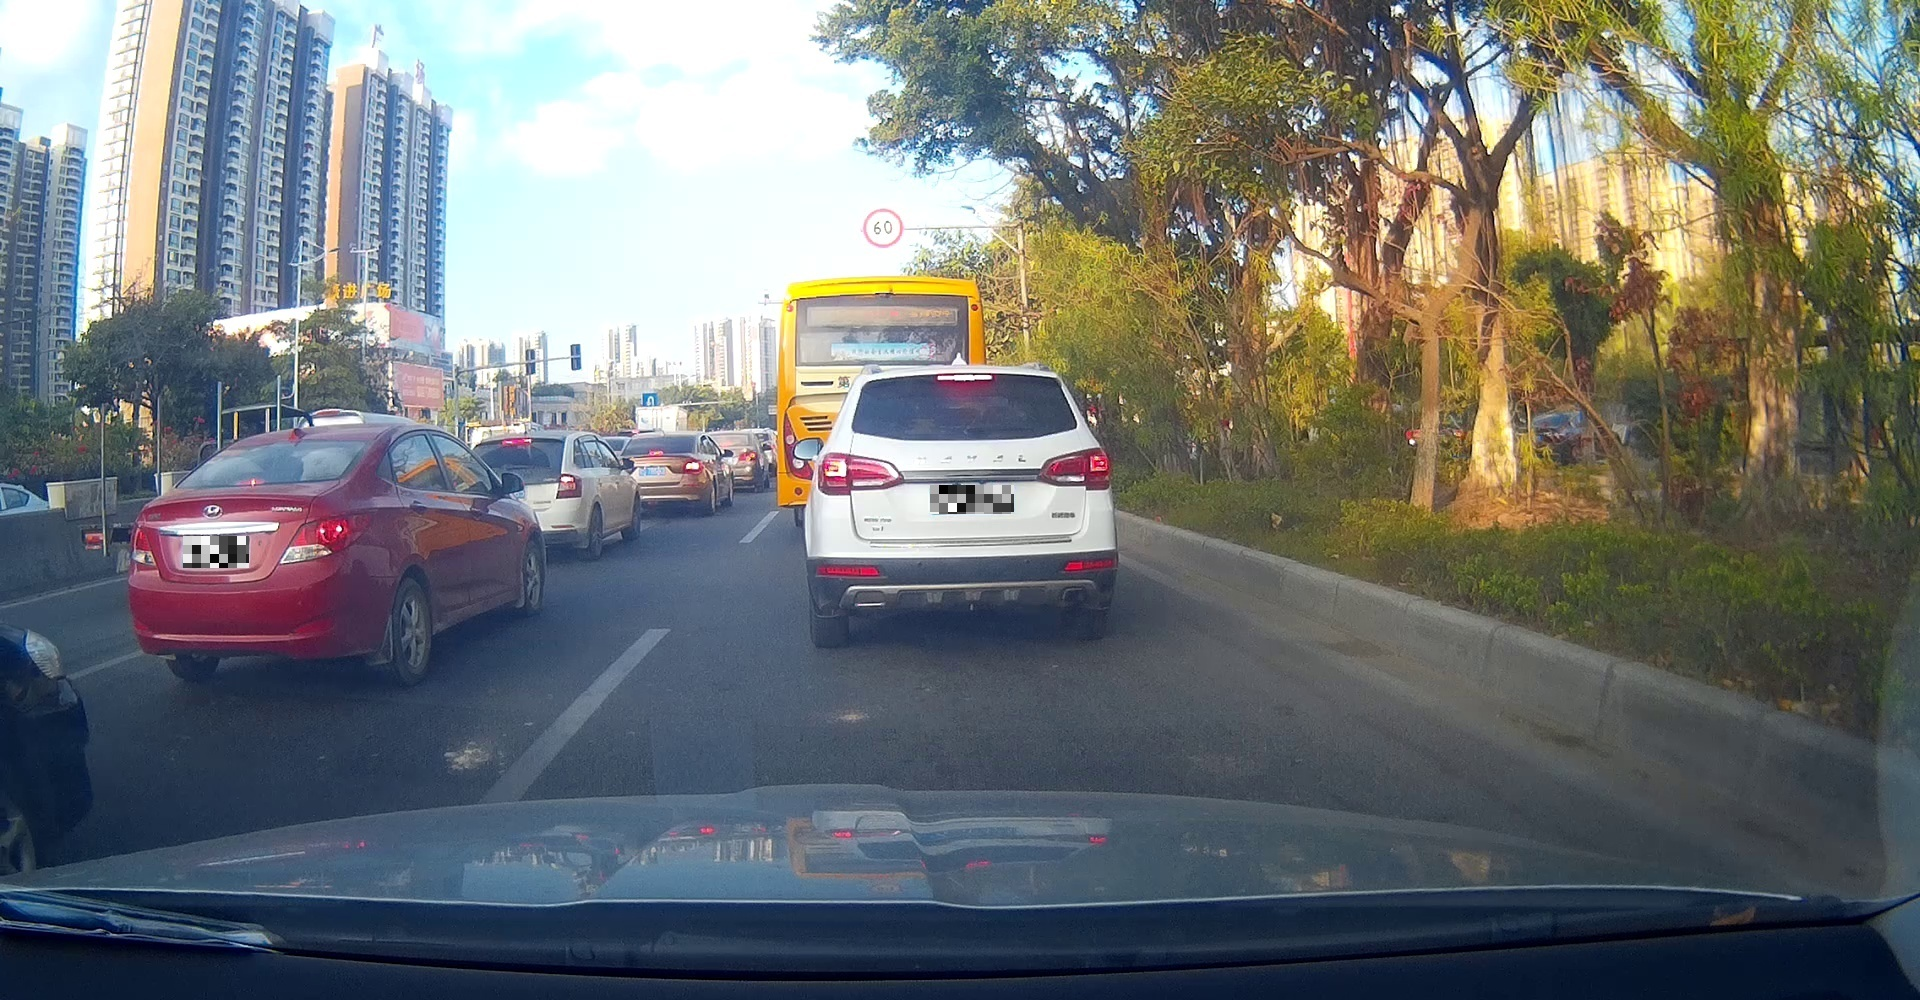L_light: (817, 452, 905, 496), (130, 522, 157, 569)
R_light: (279, 510, 376, 563), (1037, 447, 1110, 490)
T_light: (935, 371, 994, 382), (232, 476, 265, 489)
day-brake: (815, 365, 1112, 646)
day-no: (127, 424, 382, 679)
plate_1: (183, 536, 249, 569)
plate_2: (930, 485, 1015, 514)
